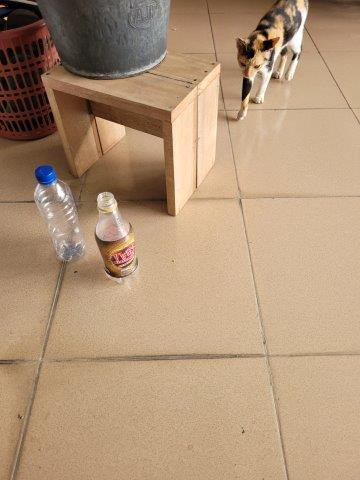botolplastik: (31, 170, 87, 264), (96, 194, 138, 284)
